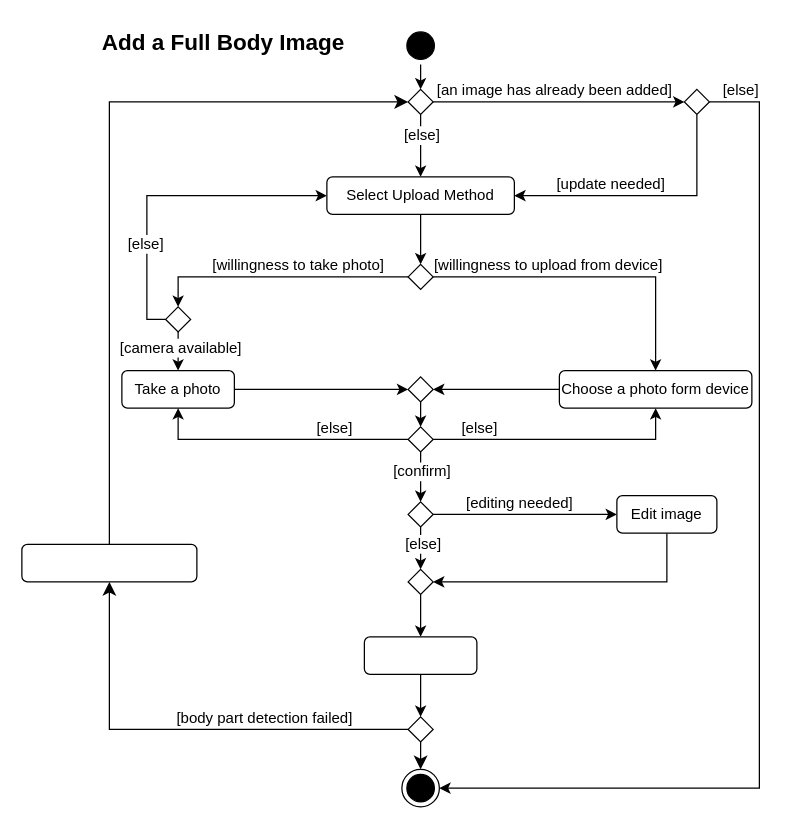
Some shapes in this 791 by 829 pixel diagram are drawn without their labels. Here are the shapes that lost their labels. From the top down, the centre of each, then its label:
[109,562]: Receive Error Message
[420,655]: Submit image
